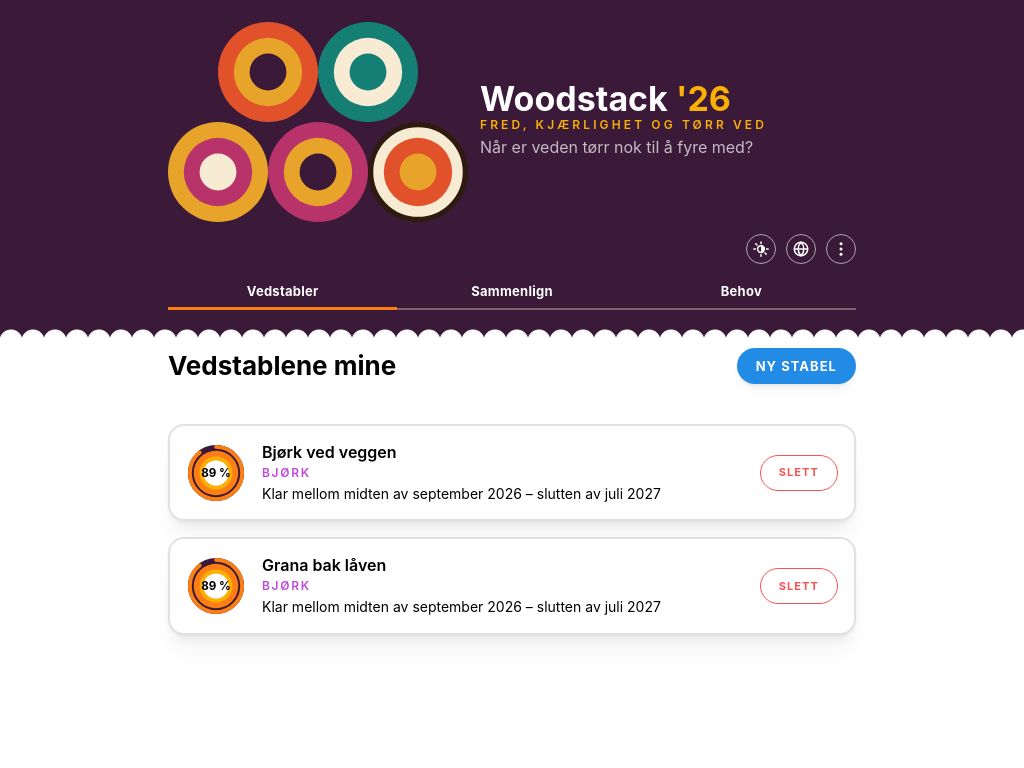
Scenario: App › takes a deleted stack off the list it came from
Step 1. Click the 1st button "Slett" → (799, 473), box [760,455,838,491]
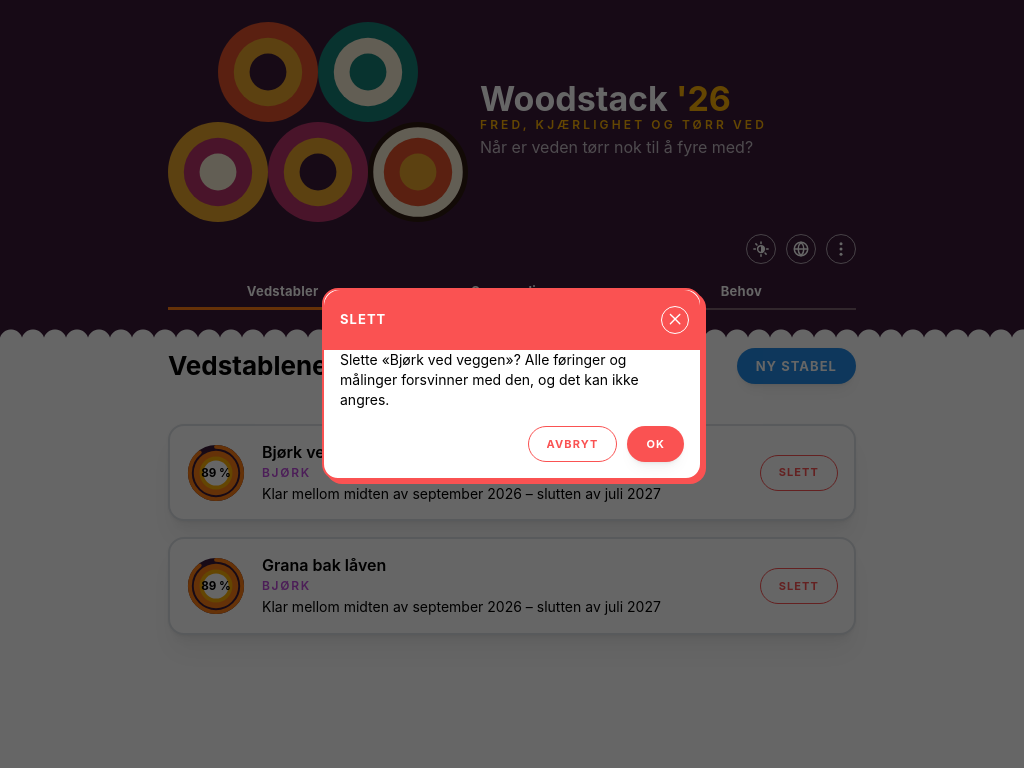
Step 2. Click the button "Ok" → (656, 444), box [627,426,684,462]
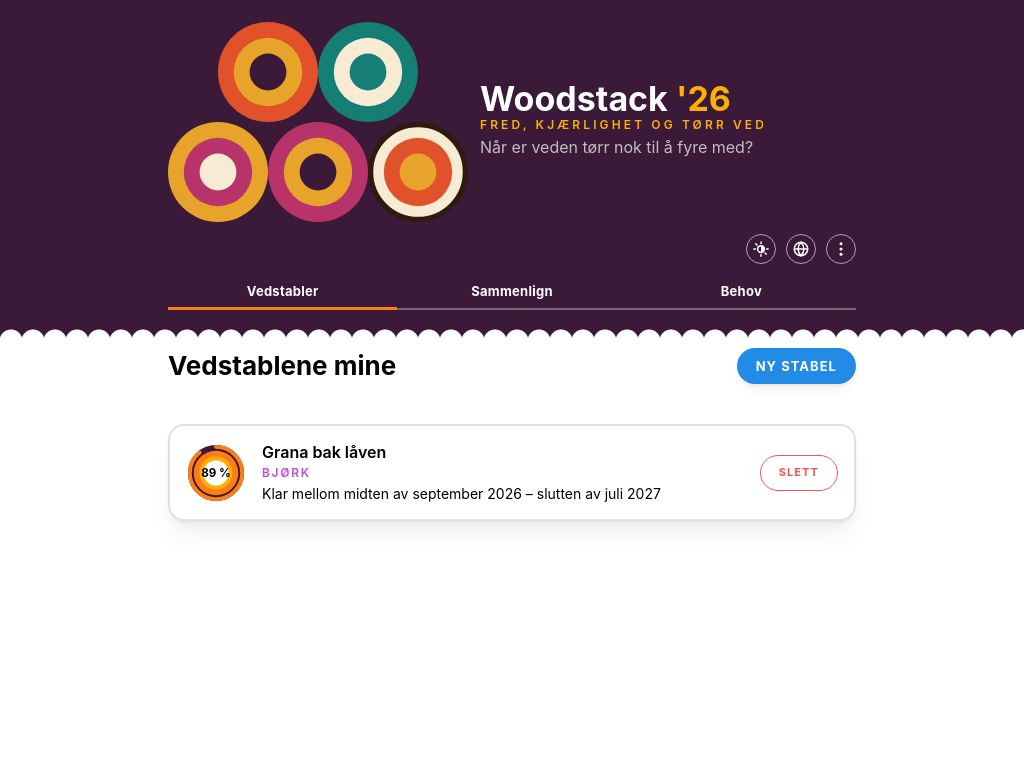
Expected: the text "Grana bak låven" is shown, [262,442,386,462]
Now the button "Bjørk ved veggen" is gone
